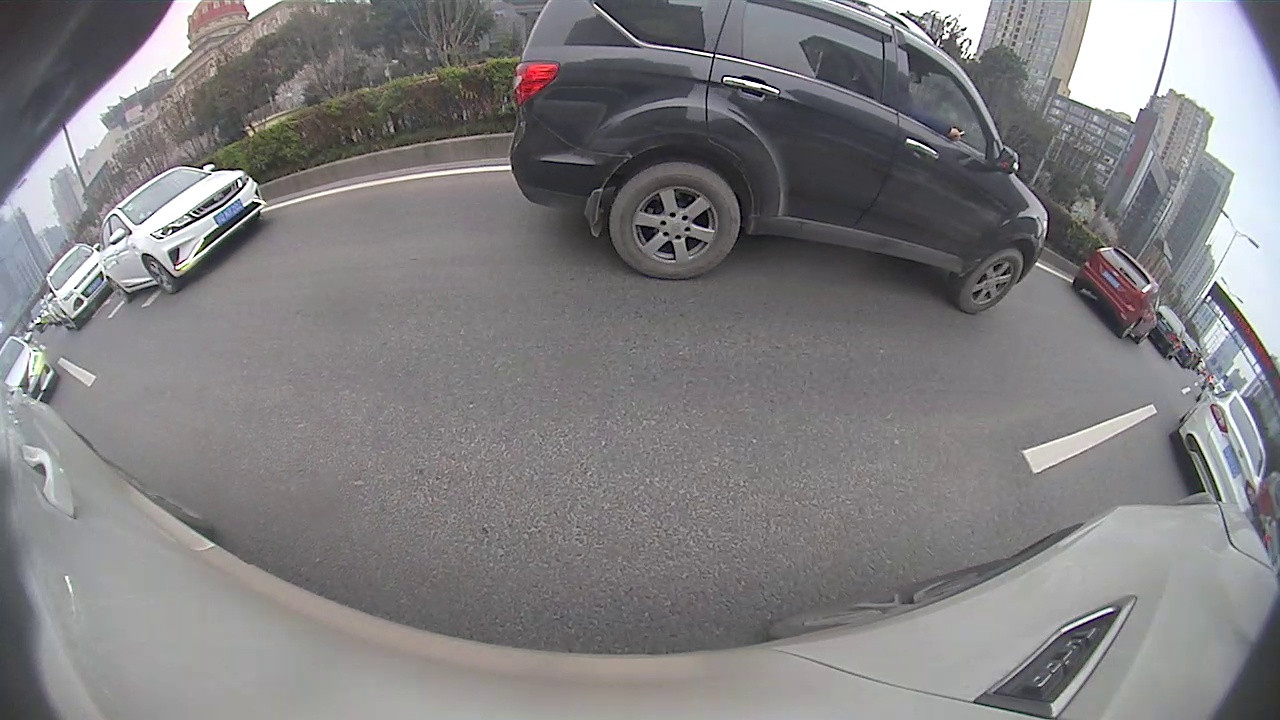car: (507, 2, 1048, 314), (97, 164, 269, 303), (1170, 388, 1269, 517), (1071, 245, 1160, 345), (43, 242, 112, 332), (1, 335, 58, 402), (1147, 303, 1186, 360)
front: (955, 246, 1026, 313), (144, 253, 180, 295)
rear: (608, 159, 742, 282), (1119, 316, 1141, 341), (111, 280, 131, 302)
